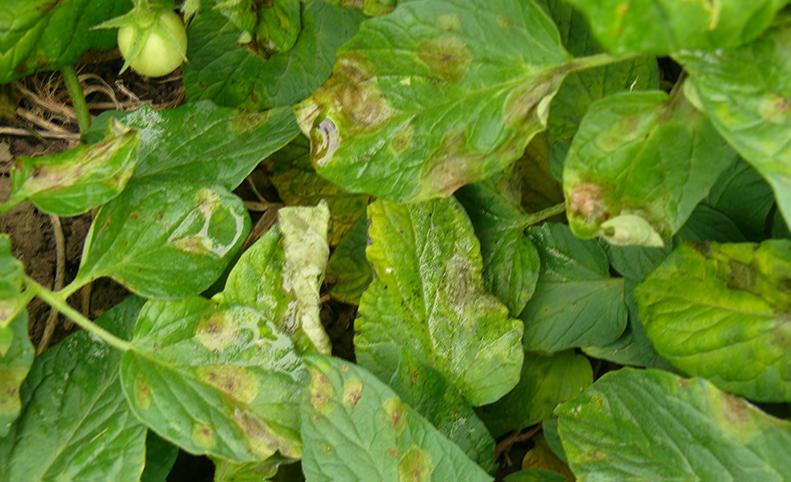Tomato leaf late blight: (296, 0, 568, 220), (271, 309, 609, 482), (316, 178, 508, 440), (97, 284, 331, 478), (548, 52, 735, 288), (620, 226, 791, 415), (546, 352, 791, 482), (59, 174, 254, 314), (2, 105, 153, 227)
